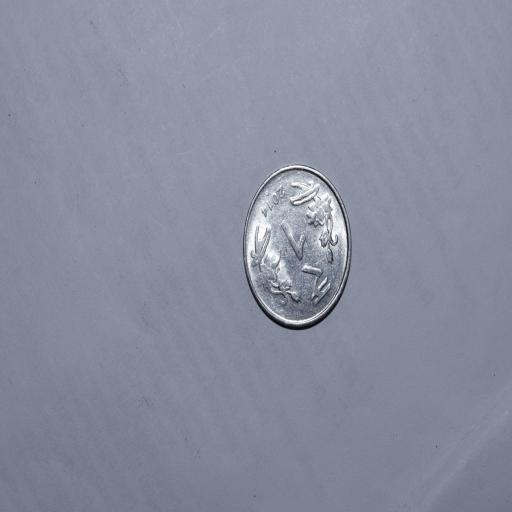rupee1: (240, 162, 354, 332)
